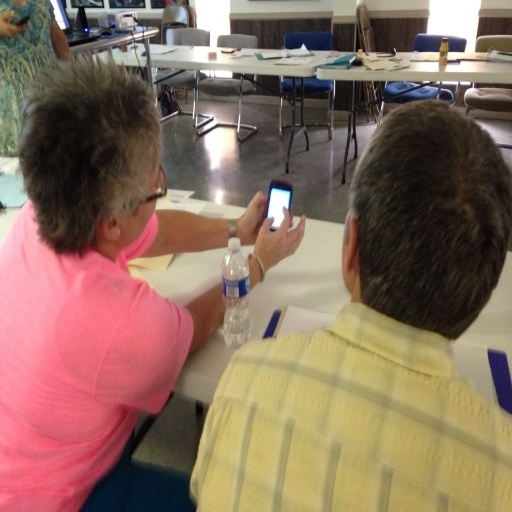hand: (251, 207, 304, 273), (240, 192, 269, 246), (0, 8, 30, 39)
